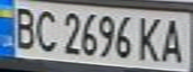2: (57, 8, 81, 56)
6: (112, 12, 139, 61), (78, 10, 100, 57)
9: (97, 11, 118, 58)
A: (157, 15, 190, 64)
B: (9, 3, 39, 52)
C: (30, 7, 60, 54)
K: (133, 14, 166, 63)
